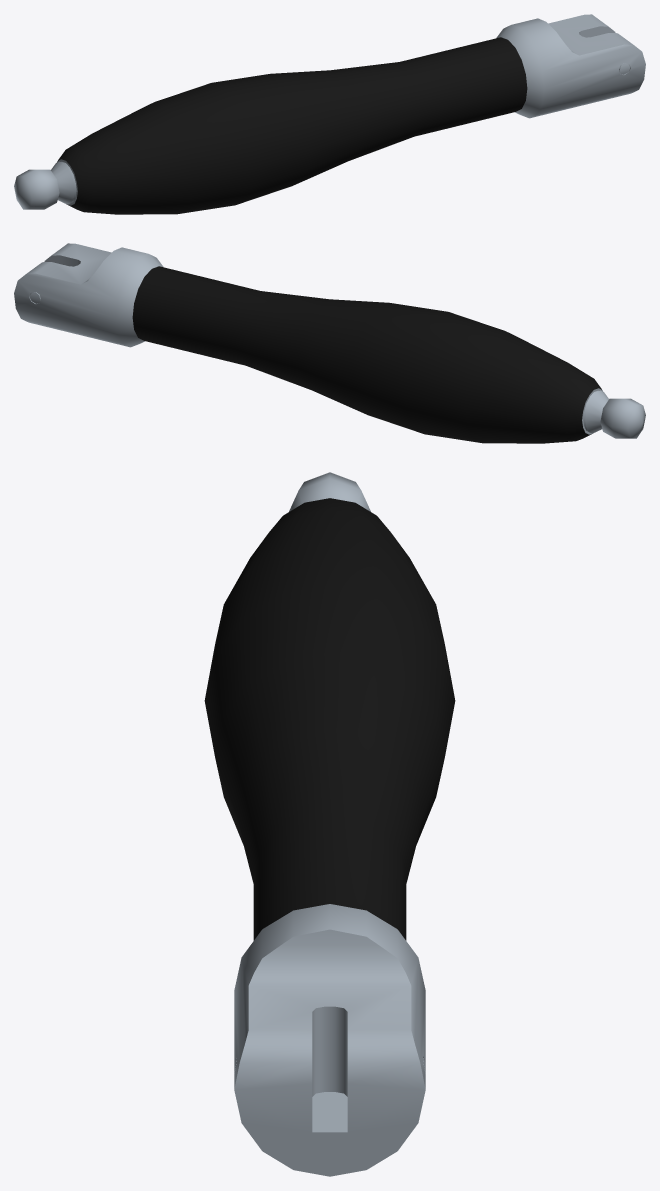
The model's file is BeerTapLink1.dae.
3 renders of one model, top to bottom at view 1: azimuth 30°, elevation 25°; view 2: azimuth 150°, elevation 25°; view 3: azimuth 270°, elevation 25°, orthographic. The views are drawn at different scales.
Visible parts, largest first — view 1: BeerTapLink1; view 2: BeerTapLink1; view 3: BeerTapLink1.
Boxes of the visible parts, x1,y1,x2,y2 form: BeerTapLink1: [14, 14, 645, 214]; BeerTapLink1: [14, 243, 645, 443]; BeerTapLink1: [204, 472, 455, 1176].
Bounding box in the file's own units: 0.124 × 0.0223 × 0.0223.
2 materials, 1 textured.
